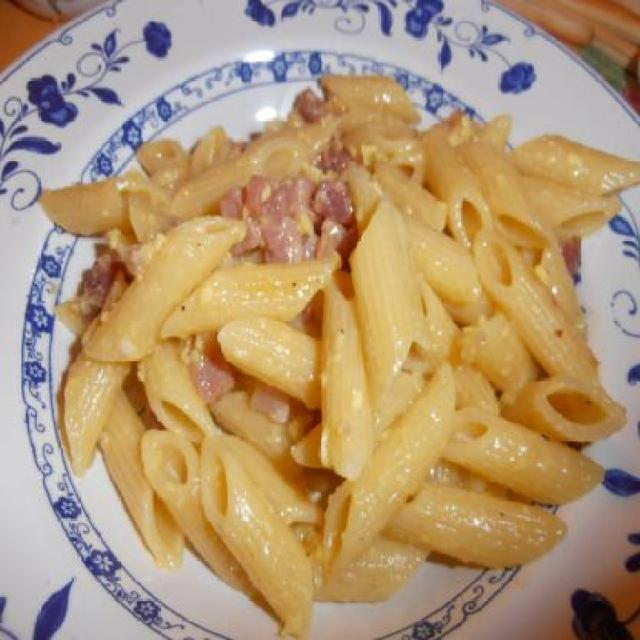Pasta with carbonara sauce: (14, 43, 638, 617)
